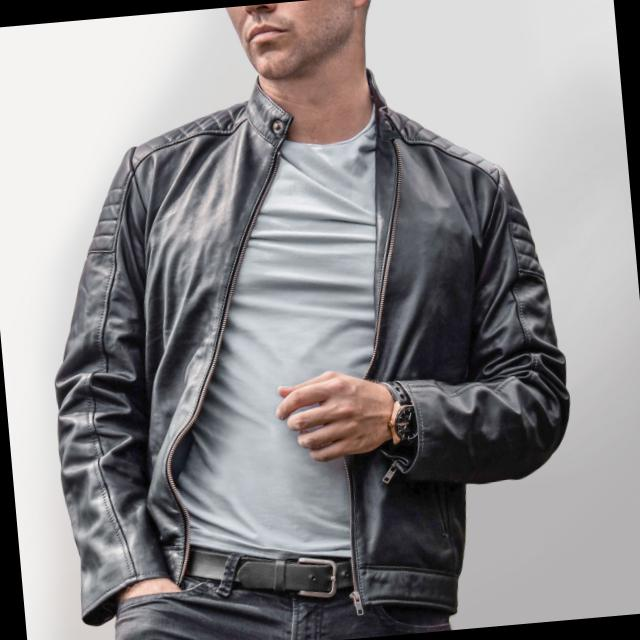Jacket: (14, 68, 598, 630)
